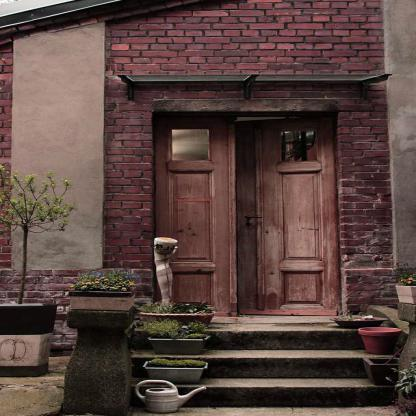door: (236, 118, 335, 316)
lever: (244, 214, 264, 220)
